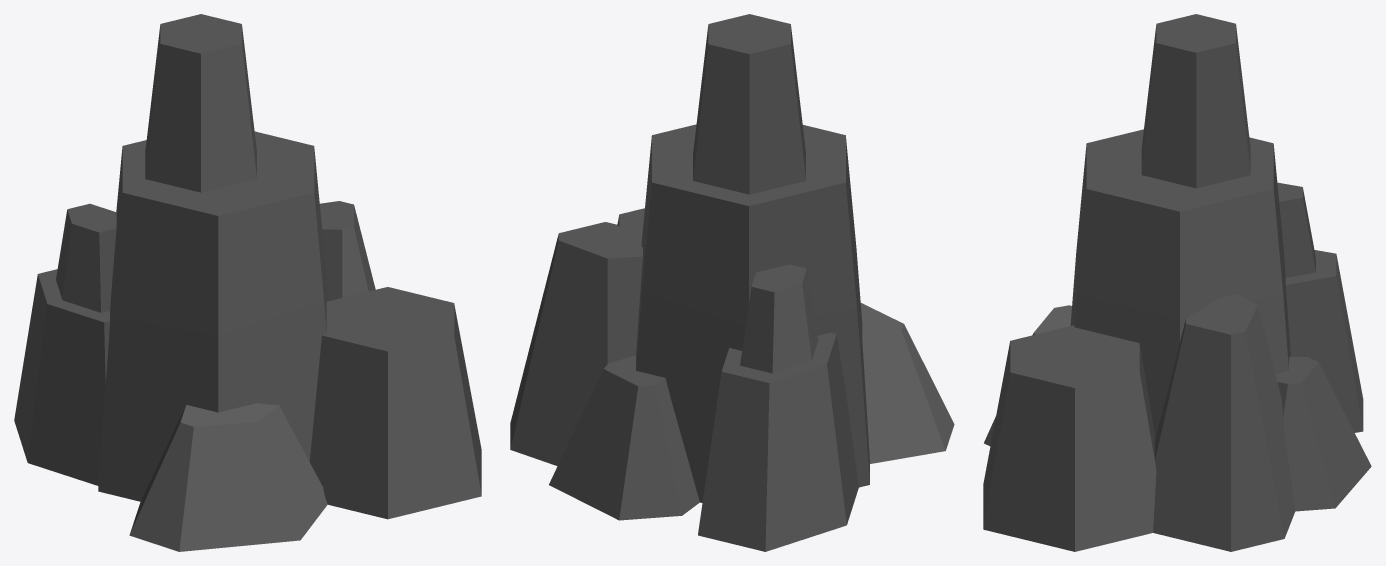
Rendered from StoneOre1.fbx.
3 views of the same model, side by side, from view 1: azimuth 30°, elevation 25°; view 2: azimuth 150°, elevation 25°; view 3: azimuth 270°, elevation 25° (orthographic). The views are drawn at different scales.
Parts seen in each view (by area): view 1: Stone2_2, Stone2_1, Stone2_4, Stone2_3; view 2: Stone2_4, Stone2_1, Stone2_3, Stone2_2; view 3: Stone2_1, Stone2_3, Stone2_2, Stone2_4.
Part boxes in pixels (x1,y1,x2,y2): Stone2_2: [129, 287, 481, 551]; Stone2_1: [111, 14, 323, 335]; Stone2_4: [14, 203, 327, 501]; Stone2_3: [320, 201, 375, 301]; Stone2_4: [636, 241, 869, 551]; Stone2_1: [642, 14, 856, 326]; Stone2_3: [510, 222, 699, 520]; Stone2_2: [617, 208, 954, 463]; Stone2_1: [1076, 14, 1283, 319]; Stone2_3: [1153, 294, 1371, 551]; Stone2_2: [983, 305, 1156, 551]; Stone2_4: [1070, 182, 1363, 437].
Size of the model in its own units: 203 by 233 by 198.
